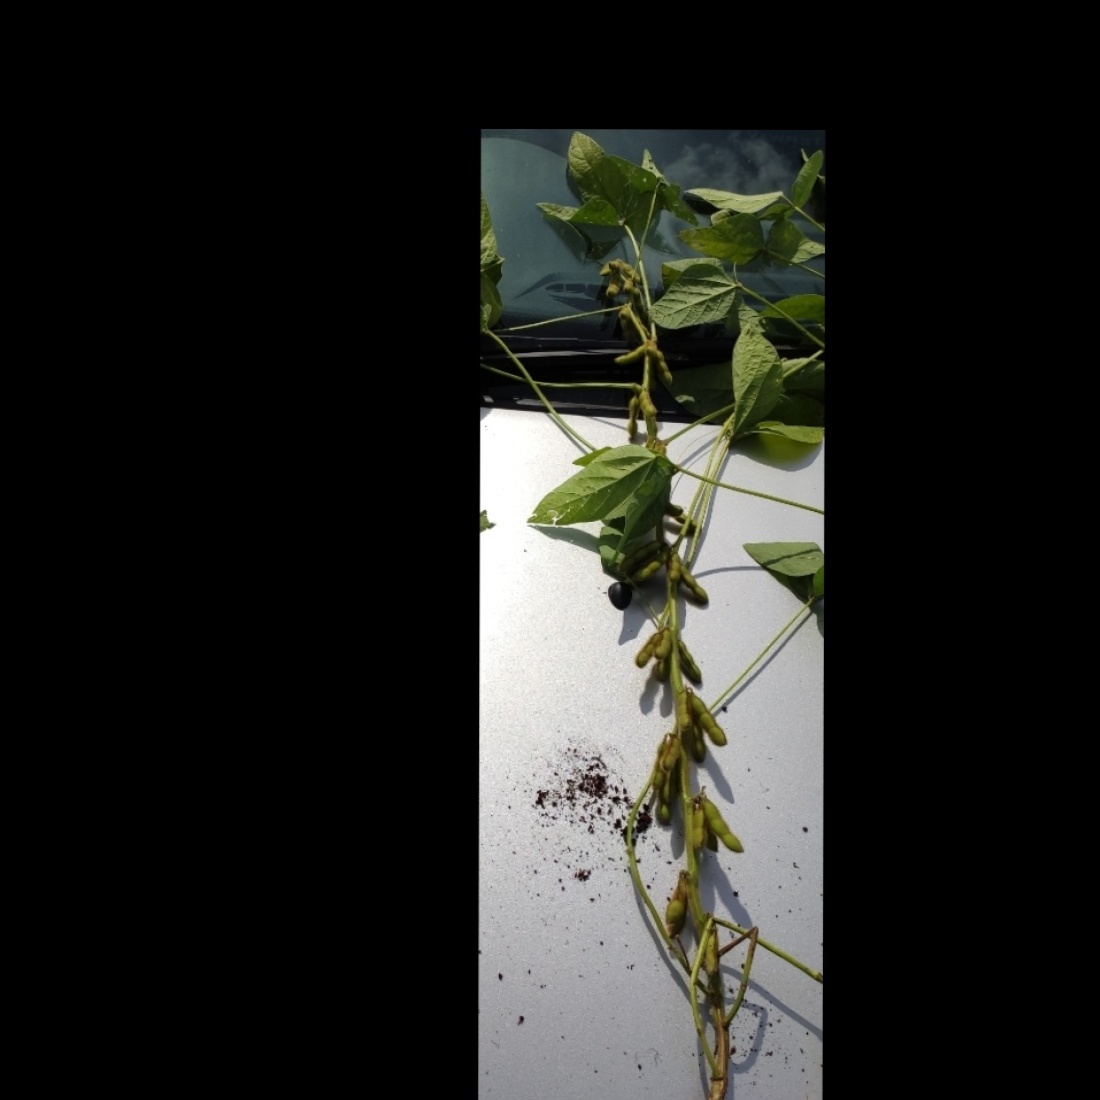pod: (682, 689, 728, 749), (701, 795, 747, 854), (623, 551, 671, 589), (616, 539, 666, 574), (677, 639, 714, 685), (662, 873, 690, 927), (675, 562, 709, 603), (632, 627, 665, 669), (654, 766, 675, 829), (649, 343, 676, 390), (660, 730, 683, 775), (611, 339, 649, 366), (676, 680, 693, 735), (633, 383, 657, 421), (650, 627, 673, 665), (623, 396, 639, 443), (665, 544, 682, 585)
soy: (487, 183, 814, 1100)
